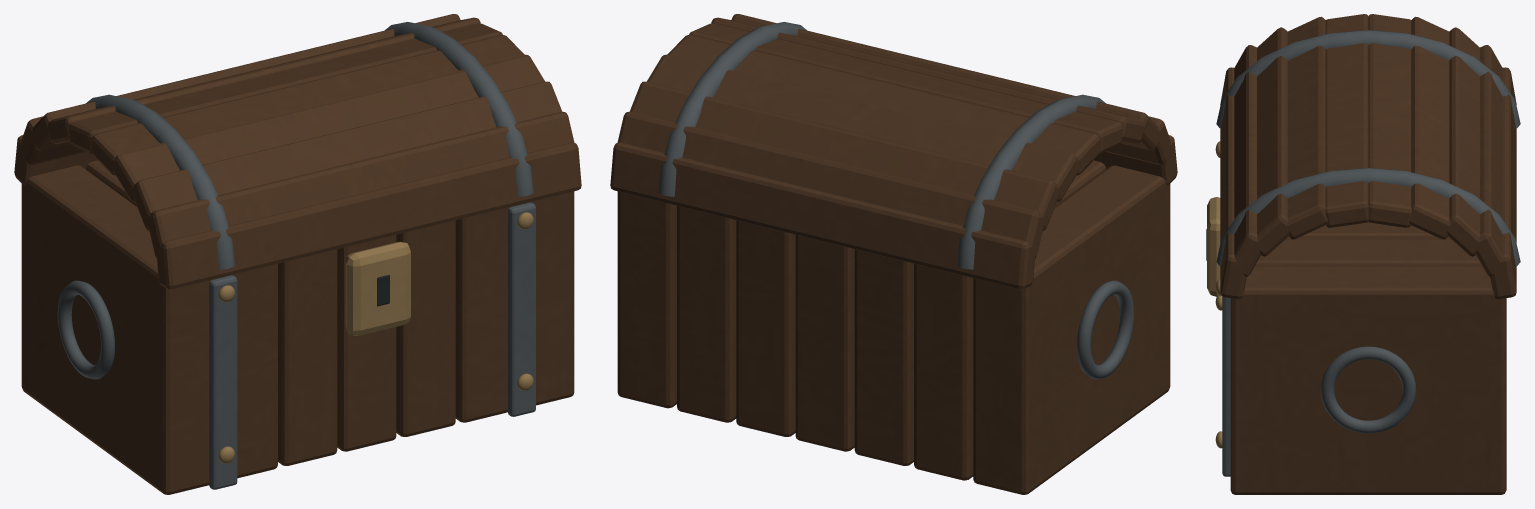
Rendered from chest.glb.
3 views of the same model, side by side, from view 1: azimuth 30°, elevation 25°; view 2: azimuth 150°, elevation 25°; view 3: azimuth 270°, elevation 25° (orthographic). The views are drawn at different scales.
Parts seen in each view (by area): view 1: chest; view 2: chest; view 3: chest.
Part boxes in pixels (<box>): chest: <box>14,14,581,494</box>; chest: <box>610,14,1177,494</box>; chest: <box>1206,14,1520,494</box>.
Size of the model in its own units: 1.1 by 0.7773 by 0.7291.
4 materials, 4 textured.
